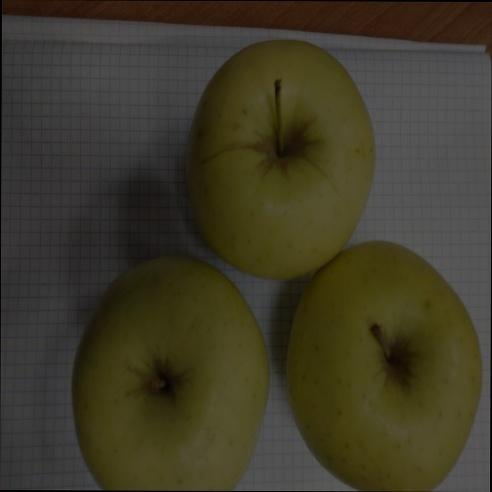green apple: (286, 239, 484, 492), (68, 256, 270, 491), (185, 38, 377, 285)
